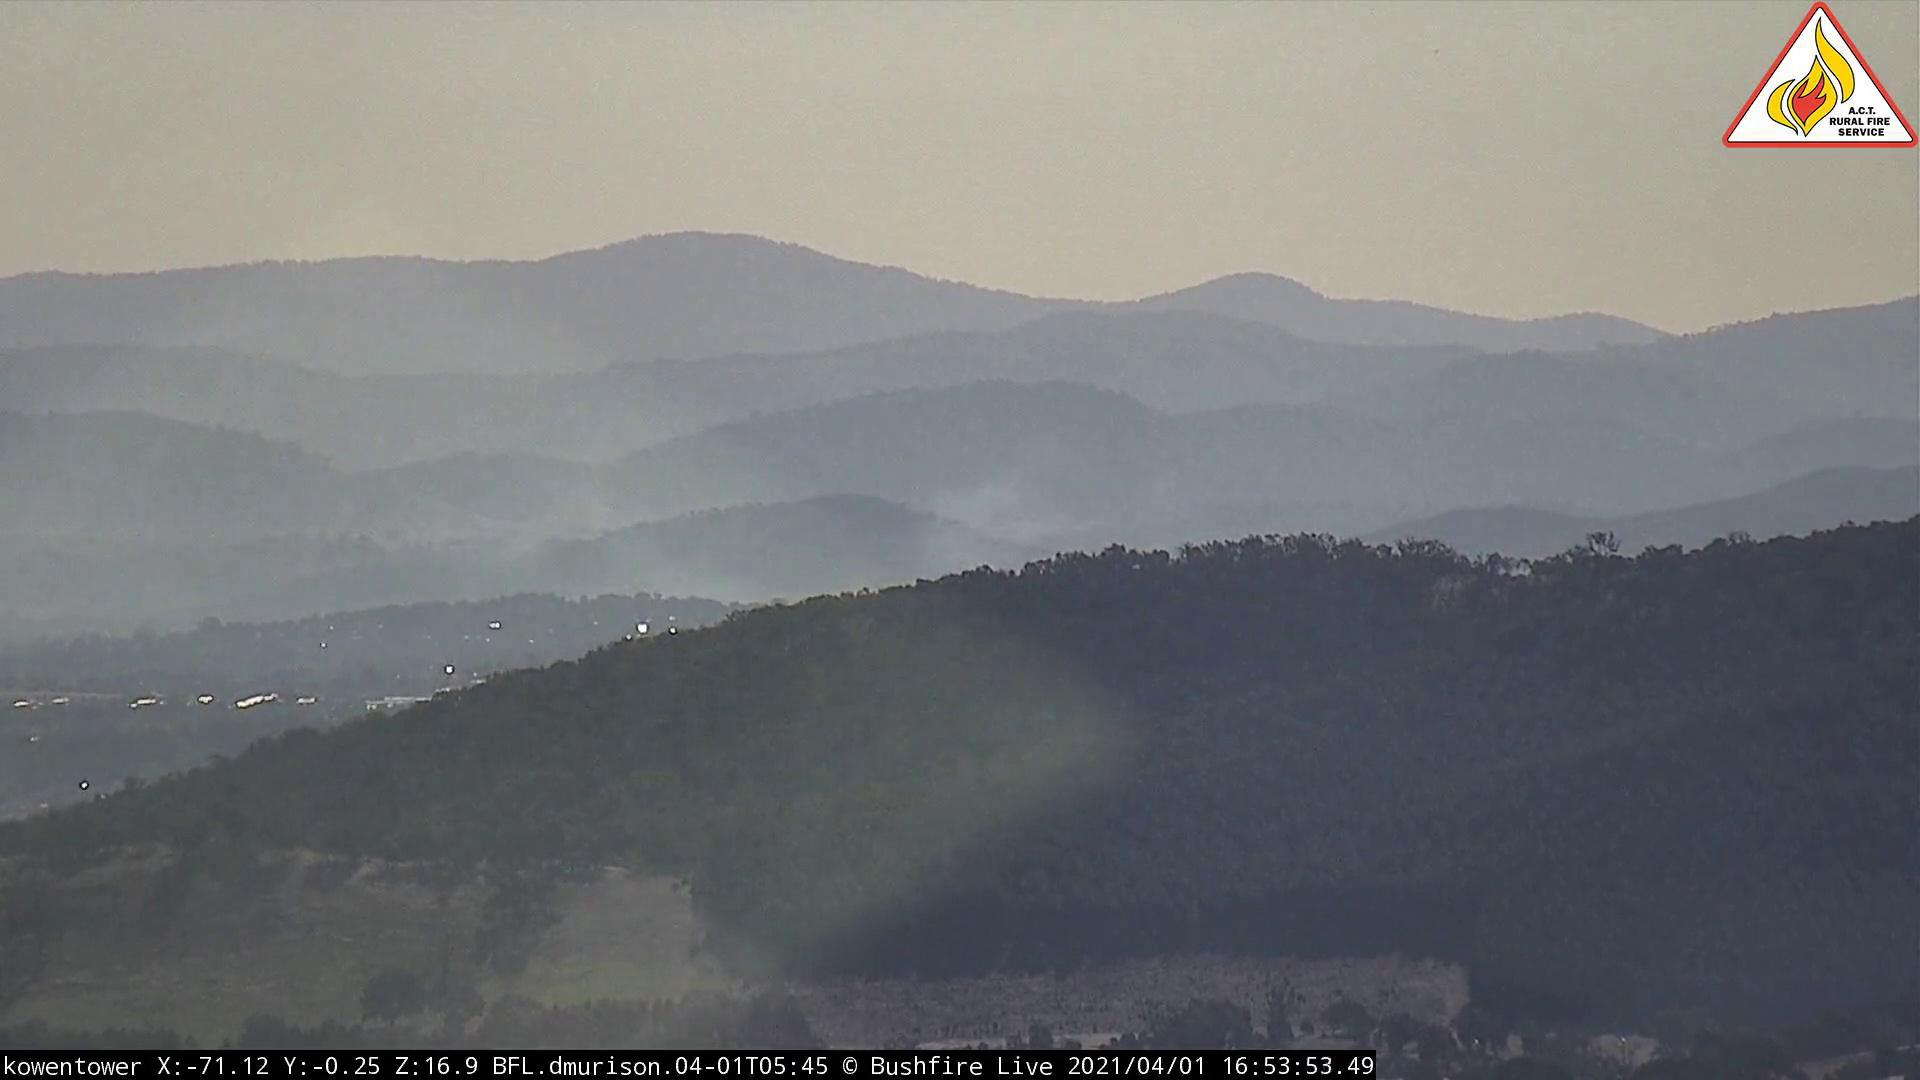Smoke: (551, 452, 1098, 622)
